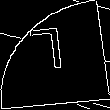L_S: (35, 28, 75, 82)
